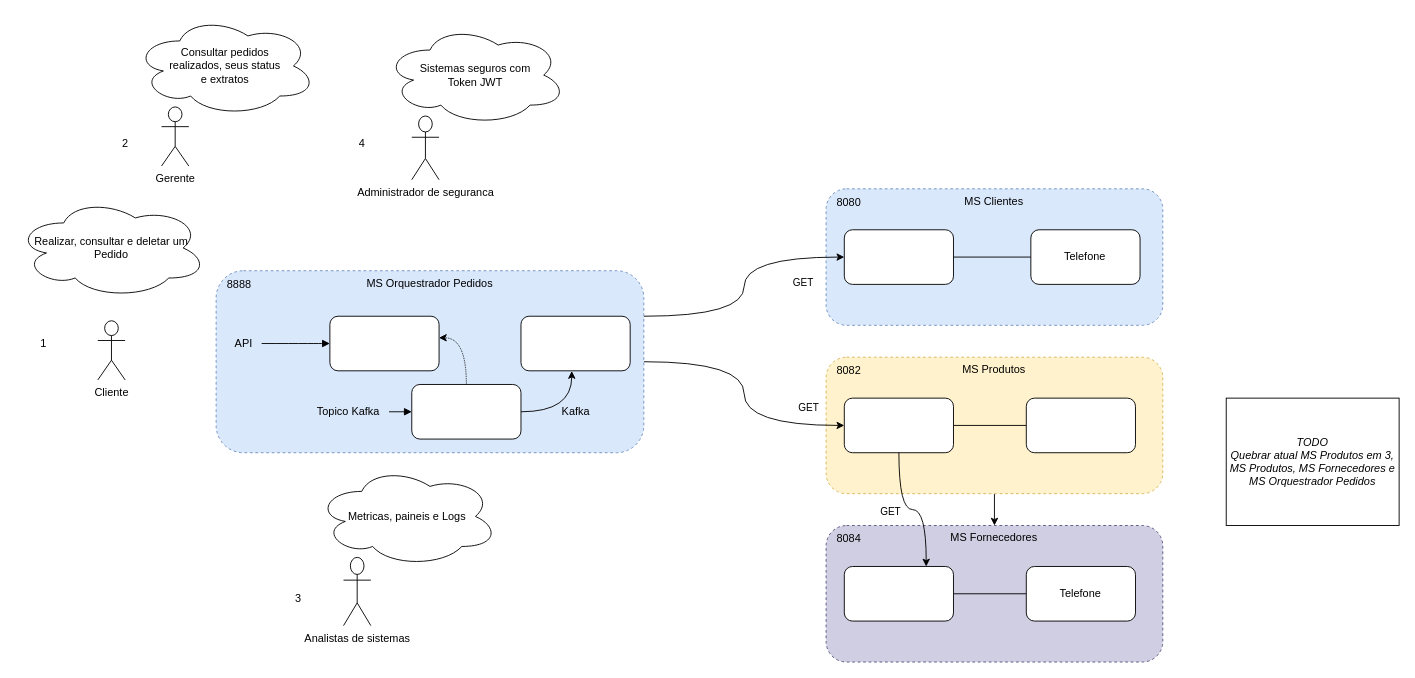
The diagram is 1415 pixels wide and 678 high, and some of its shapes have lost their labels. The shapes that lost their labels are listed below. From the top down, each one's centre as x and y in pixels, then its label:
At point (898, 256): "Clientes".
At point (384, 343): "Pedidos".
At point (575, 343): "Gerar PDF + Email".
At point (466, 411): "Extrato Pedidos".
At point (898, 425): "Produtos".
At point (1080, 425): "Categorias".
At point (898, 593): "Fornecedores".
